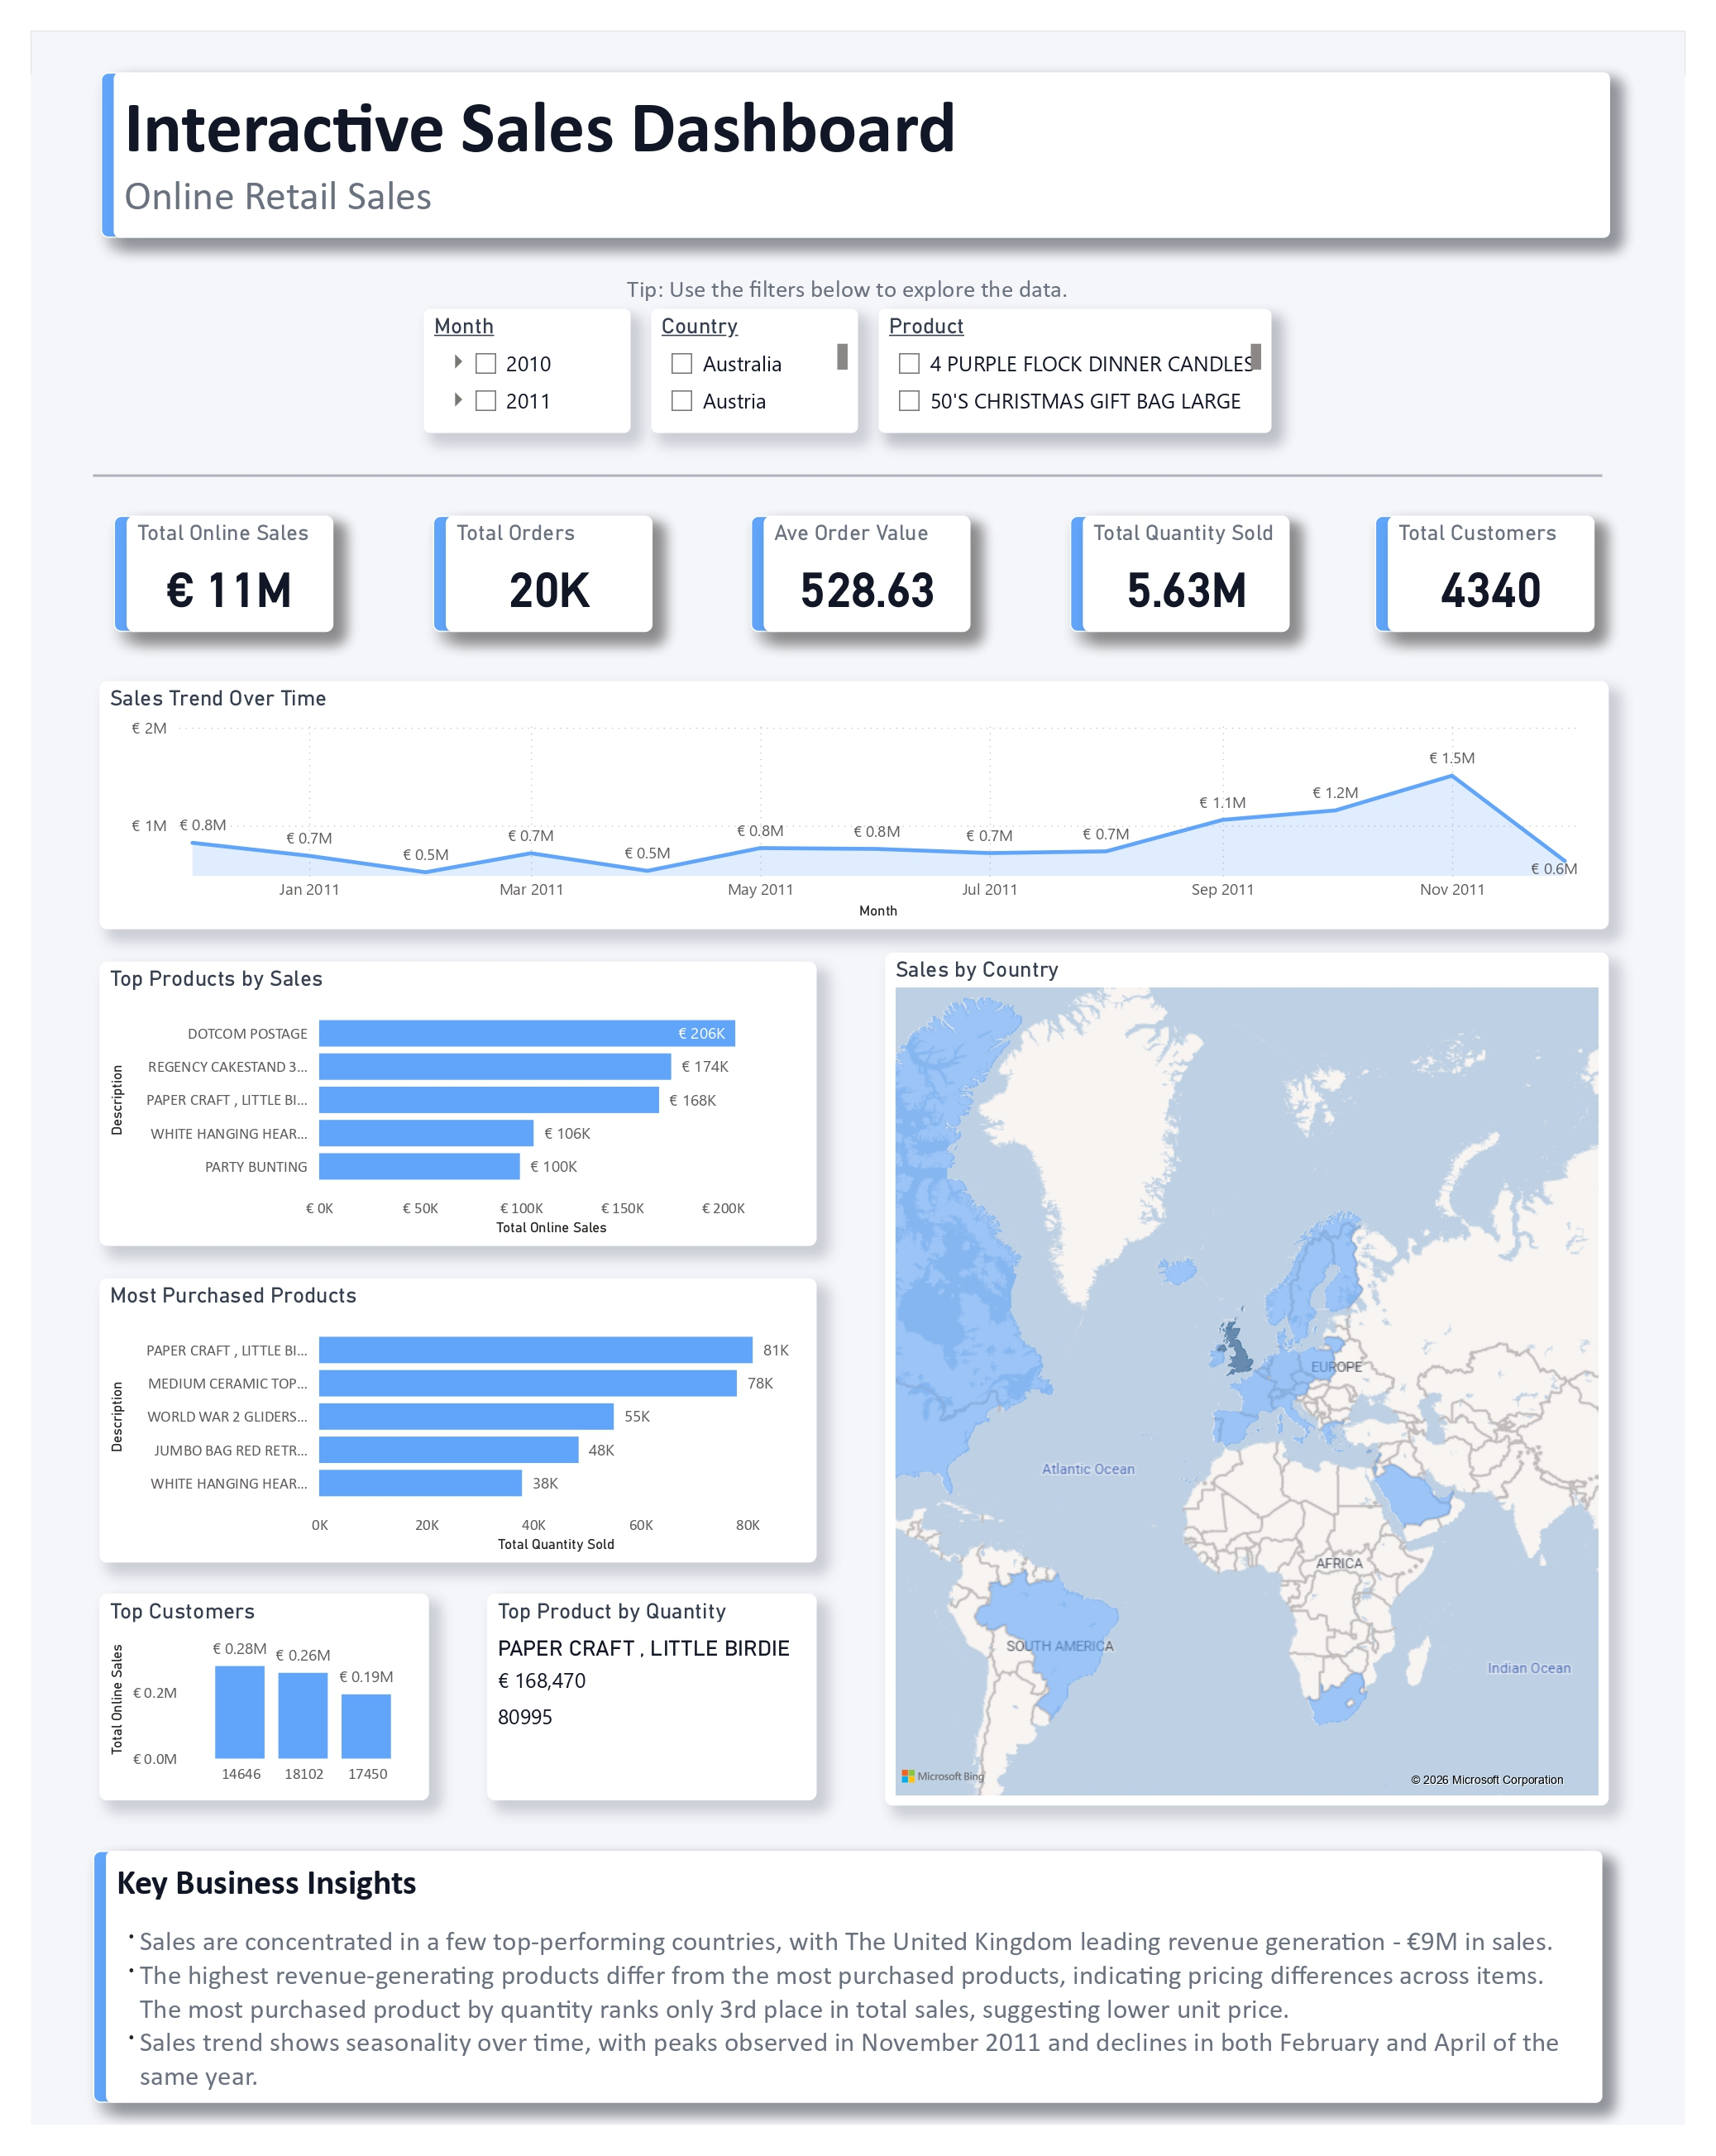

The page's visual inventory and layout, read from the dashboard file:
{"tool":"powerbi","page":{"name":"Final Interactive Dashboard","canvas":[1280,1620],"ordinal":0},"visuals":[{"type":"textbox","box":[304,182.5,656,128],"z":0,"group":"g2"},{"type":"lineChart","title":"Sales Trend Over Time","fields":{"Y":["Online_Retail_Data.Total Online Sales"],"Category":["Online_Retail_Data.Invoice Date.Variation.Date Hierarchy.Year","Online_Retail_Data.Invoice Date.Variation.Date Hierarchy.Month"]},"box":[52.8,503.2,1168,192],"z":0},{"type":"card","title":"Total Quantity Sold","fields":{"Values":["Online_Retail_Data.Total Quantity Sold"]},"box":[64,375.1,170,90],"z":1000,"group":"g10"},{"type":"card","title":"Total Quantity Sold","fields":{"Values":["Online_Retail_Data.Total Quantity Sold"]},"box":[310.5,375.1,170,90],"z":1000,"group":"g4"},{"type":"card","title":"Total Quantity Sold","fields":{"Values":["Online_Retail_Data.Total Quantity Sold"]},"box":[557,375.1,170,90],"z":1000,"group":"g5"},{"type":"card","title":"Total Quantity Sold","fields":{"Values":["Online_Retail_Data.Total Quantity Sold"]},"box":[803.5,375.1,170,90],"z":1000,"group":"g8"},{"type":"card","title":"Total Quantity Sold","fields":{"Values":["Online_Retail_Data.Total Quantity Sold"]},"box":[1040,375.1,170,90],"z":1000,"group":"g9"},{"type":"barChart","title":"Top Products by Sales","fields":{"Category":["Online_Retail_Data.Description"],"Y":["Online_Retail_Data.Total Online Sales"]},"box":[52.8,719.9,555,220],"z":1000,"group":"g1"},{"type":"columnChart","title":"Top Customers","fields":{"Category":["Online_Retail_Data.Customer ID"],"Y":["Online_Retail_Data.Total Online Sales"]},"box":[52.8,1209.2,255,160],"z":1000},{"type":"card","title":"Total Quantity Sold","fields":{"Values":["Online_Retail_Data.Total Quantity Sold"]},"box":[54,32,1168,128],"z":2000,"group":"g6"},{"type":"barChart","title":"Most Purchased Products","fields":{"Category":["Online_Retail_Data.Description"],"Y":["Online_Retail_Data.Total Quantity Sold"]},"box":[52.8,964.6,555,220],"z":3000},{"type":"filledMap","title":"Sales by Country","fields":{"Category":["Online_Retail_Data.Country"]},"box":[660.8,713.2,560,660],"z":4000},{"type":"slicer","title":"Month","fields":{"Values":["Online_Retail_Data.Year","Online_Retail_Data.Month Name"]},"box":[304,214.5,160,96],"z":5000,"group":"g2"},{"type":"group","id":"g1","title":"Group 5","box":[52.8,719.9,555,220],"z":5000},{"type":"textbox","box":[64,32,1158,128],"z":6000,"group":"g6"},{"type":"multiRowCard","title":"Top Product by Quantity","fields":{"Values":["Online_Retail_Data.Description","Online_Retail_Data.Total Online Sales","Online_Retail_Data.Total Quantity Sold"]},"box":[352.8,1209.2,255,160],"z":7000},{"type":"group","id":"g2","title":"Group 3","box":[304,182.5,656,128],"z":8000},{"type":"slicer","title":"Country","fields":{"Values":["Online_Retail_Data.Country"]},"box":[480,214.5,160,96],"z":9000,"group":"g2"},{"type":"shape","box":[48,304,1168,80],"z":9000},{"type":"card","title":"Total Quantity Sold","fields":{"Values":["Online_Retail_Data.Total Quantity Sold"]},"box":[48,1408,1168,195],"z":9500,"group":"g7"},{"type":"slicer","title":"Product","fields":{"Values":["Online_Retail_Data.Description"]},"box":[656,214.5,304,96],"z":10000,"group":"g2"},{"type":"group","id":"g3","title":"Group 1","box":[64,375.1,1146,90],"z":10000},{"type":"group","id":"g4","title":"Group 2","box":[310.5,375.1,176,80],"z":10000,"group":"g3"},{"type":"textbox","box":[58,1408,1158,195],"z":10000,"group":"g7"},{"type":"group","id":"g5","title":"Group 2","box":[557,375.1,176,80],"z":11000,"group":"g3"},{"type":"group","id":"g6","title":"Group 6","box":[54,32,1168,128],"z":11001},{"type":"group","id":"g7","title":"Group 4","box":[48,1408,1168,195],"z":11002},{"type":"group","id":"g8","title":"Group 2","box":[803.5,375.1,176,80],"z":12000,"group":"g3"},{"type":"group","id":"g9","title":"Group 2","box":[1040,375.1,170,90],"z":13000,"group":"g3"},{"type":"group","id":"g10","title":"Group 2","box":[64,375.1,176,80],"z":14000,"group":"g3"},{"type":"card","title":"Total Online Sales","fields":{"Values":["Online_Retail_Data.Total Online Sales"]},"box":[74,375.1,160,90],"z":16000,"group":"g10"},{"type":"card","title":"Total Orders","fields":{"Values":["Online_Retail_Data.Total Orders"]},"box":[320.5,375.1,160,90],"z":16000,"group":"g4"},{"type":"card","title":"Ave Order Value","fields":{"Values":["Online_Retail_Data.Avg Order Value"]},"box":[567,375.1,160,90],"z":16000,"group":"g5"},{"type":"card","title":"Total Quantity Sold","fields":{"Values":["Online_Retail_Data.Total Quantity Sold"]},"box":[813.5,375.1,160,90],"z":16000,"group":"g8"},{"type":"card","title":"Total Customers","fields":{"Values":["Online_Retail_Data.Total Customers"]},"box":[1050,375.1,160,90],"z":16000,"group":"g9"}]}

Visuals, with their boxes on the page's 1280x1620 design canvas (x1, y1, x2, y2). These are canvas units, not pixel positions in the 1716x2156 screenshot, which may show the page scaled, cropped or inside an application window:
textbox: {"x1": 304, "y1": 182, "x2": 960, "y2": 310}
"Sales Trend Over Time" lineChart: {"x1": 53, "y1": 503, "x2": 1221, "y2": 695}
"Total Quantity Sold" card: {"x1": 64, "y1": 375, "x2": 234, "y2": 465}
"Total Quantity Sold" card: {"x1": 310, "y1": 375, "x2": 480, "y2": 465}
"Total Quantity Sold" card: {"x1": 557, "y1": 375, "x2": 727, "y2": 465}
"Total Quantity Sold" card: {"x1": 804, "y1": 375, "x2": 974, "y2": 465}
"Total Quantity Sold" card: {"x1": 1040, "y1": 375, "x2": 1210, "y2": 465}
"Top Products by Sales" barChart: {"x1": 53, "y1": 720, "x2": 608, "y2": 940}
"Top Customers" columnChart: {"x1": 53, "y1": 1209, "x2": 308, "y2": 1369}
"Total Quantity Sold" card: {"x1": 54, "y1": 32, "x2": 1222, "y2": 160}
"Most Purchased Products" barChart: {"x1": 53, "y1": 965, "x2": 608, "y2": 1185}
"Sales by Country" filledMap: {"x1": 661, "y1": 713, "x2": 1221, "y2": 1373}
"Month" slicer: {"x1": 304, "y1": 214, "x2": 464, "y2": 310}
"Group 5" group: {"x1": 53, "y1": 720, "x2": 608, "y2": 940}
textbox: {"x1": 64, "y1": 32, "x2": 1222, "y2": 160}
"Top Product by Quantity" multiRowCard: {"x1": 353, "y1": 1209, "x2": 608, "y2": 1369}
"Group 3" group: {"x1": 304, "y1": 182, "x2": 960, "y2": 310}
"Country" slicer: {"x1": 480, "y1": 214, "x2": 640, "y2": 310}
shape: {"x1": 48, "y1": 304, "x2": 1216, "y2": 384}
"Total Quantity Sold" card: {"x1": 48, "y1": 1408, "x2": 1216, "y2": 1603}
"Product" slicer: {"x1": 656, "y1": 214, "x2": 960, "y2": 310}
"Group 1" group: {"x1": 64, "y1": 375, "x2": 1210, "y2": 465}
"Group 2" group: {"x1": 310, "y1": 375, "x2": 486, "y2": 455}
textbox: {"x1": 58, "y1": 1408, "x2": 1216, "y2": 1603}
"Group 2" group: {"x1": 557, "y1": 375, "x2": 733, "y2": 455}
"Group 6" group: {"x1": 54, "y1": 32, "x2": 1222, "y2": 160}
"Group 4" group: {"x1": 48, "y1": 1408, "x2": 1216, "y2": 1603}
"Group 2" group: {"x1": 804, "y1": 375, "x2": 980, "y2": 455}
"Group 2" group: {"x1": 1040, "y1": 375, "x2": 1210, "y2": 465}
"Group 2" group: {"x1": 64, "y1": 375, "x2": 240, "y2": 455}
"Total Online Sales" card: {"x1": 74, "y1": 375, "x2": 234, "y2": 465}
"Total Orders" card: {"x1": 320, "y1": 375, "x2": 480, "y2": 465}
"Ave Order Value" card: {"x1": 567, "y1": 375, "x2": 727, "y2": 465}
"Total Quantity Sold" card: {"x1": 814, "y1": 375, "x2": 974, "y2": 465}
"Total Customers" card: {"x1": 1050, "y1": 375, "x2": 1210, "y2": 465}
